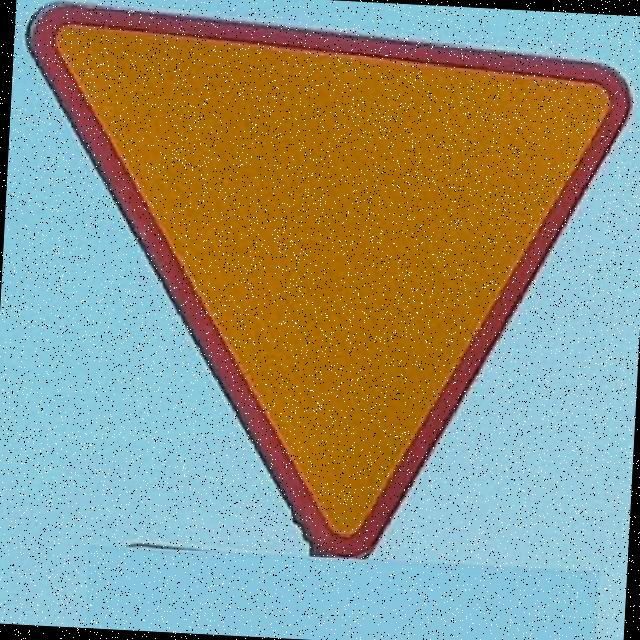Ustap pierwszenstwa: (0, 0, 638, 570)
